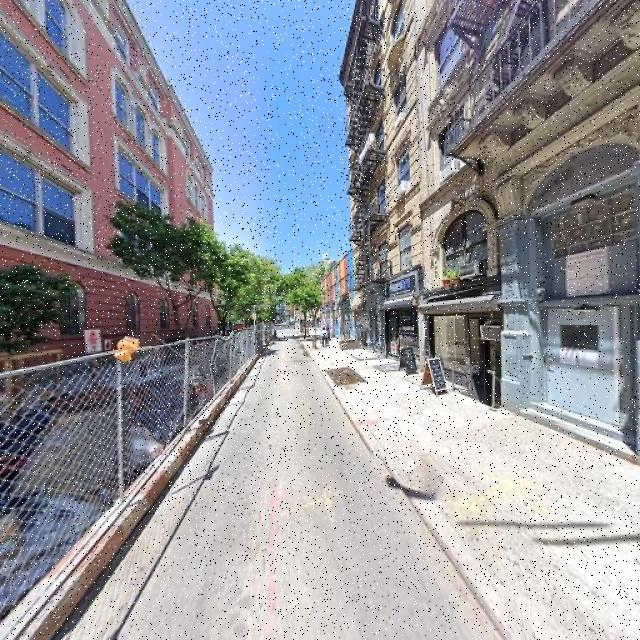Building: (422, 1, 640, 467), (1, 1, 217, 449), (349, 1, 419, 373)
